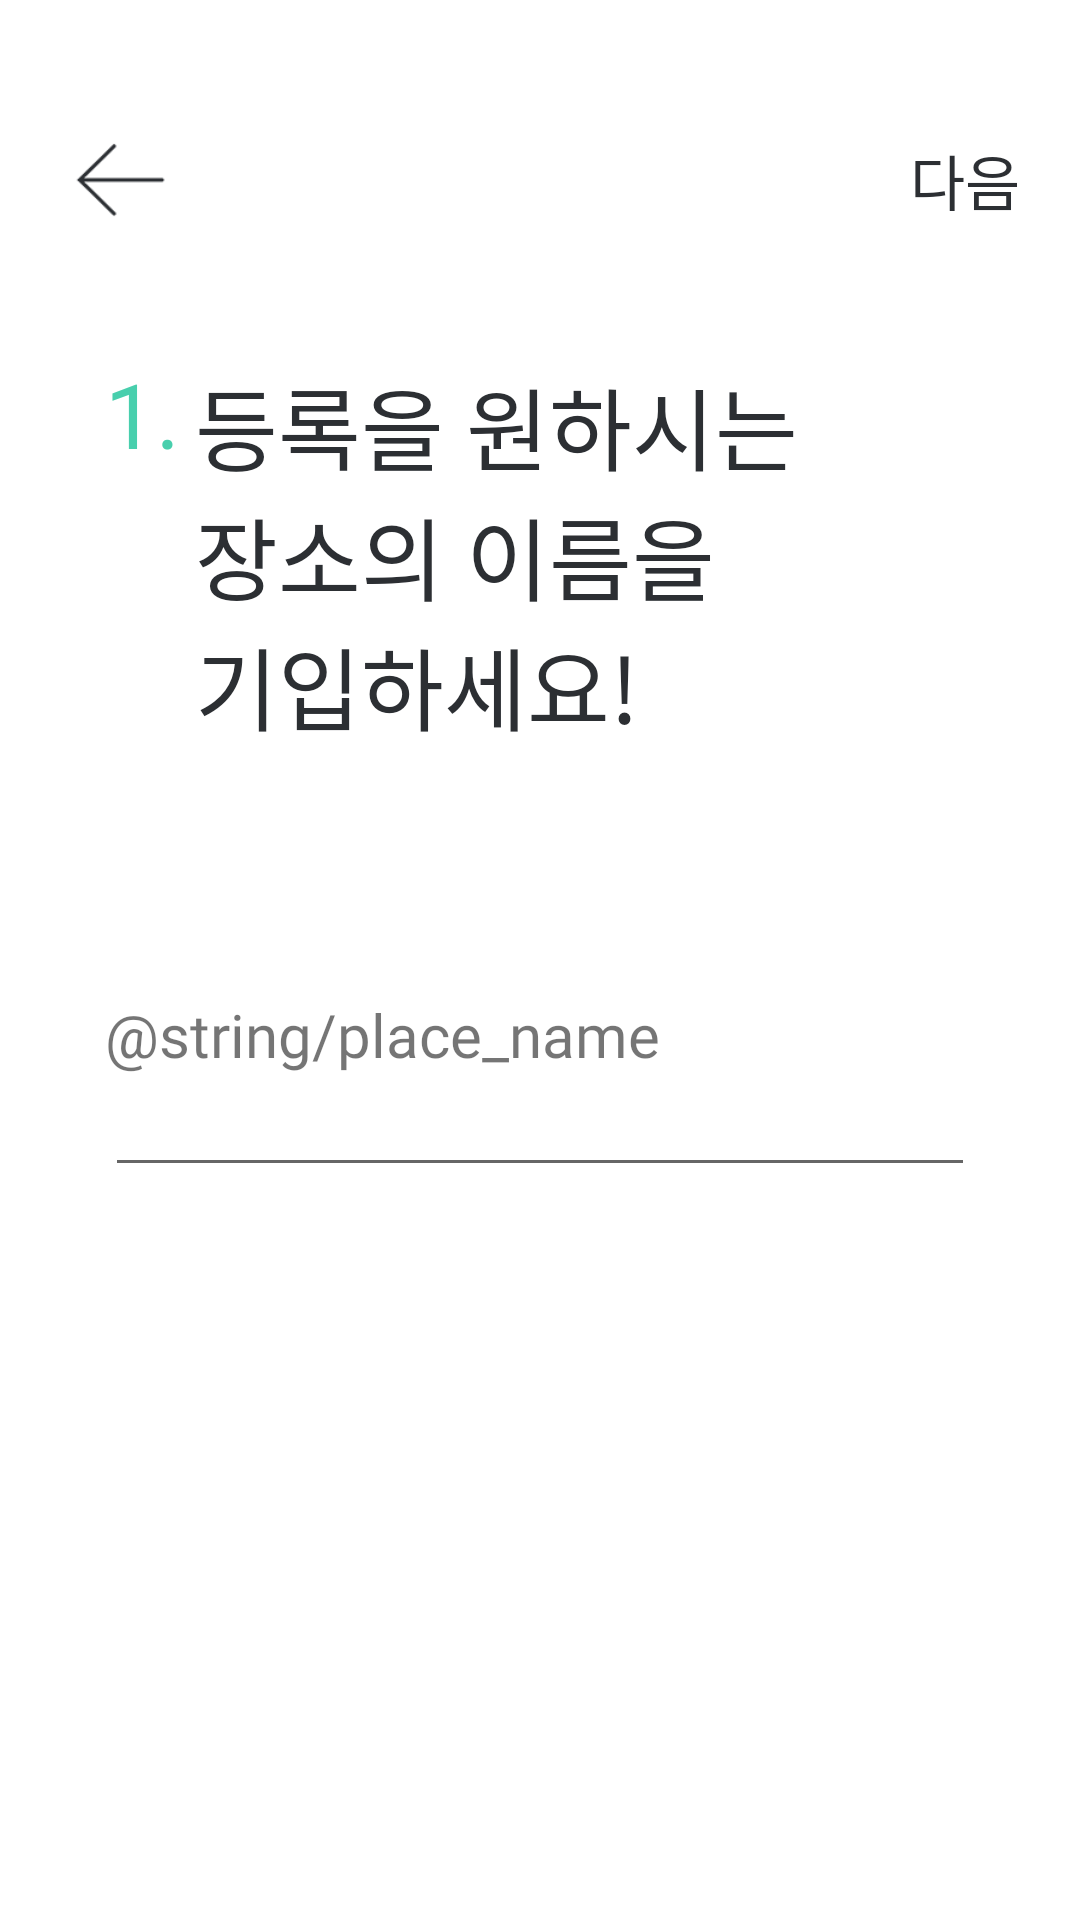

Screen size 1080px x 1920px. Icon name, then its box in pixels as (x1, y1, x2, y2):
back arrow: (77, 144, 165, 216)
